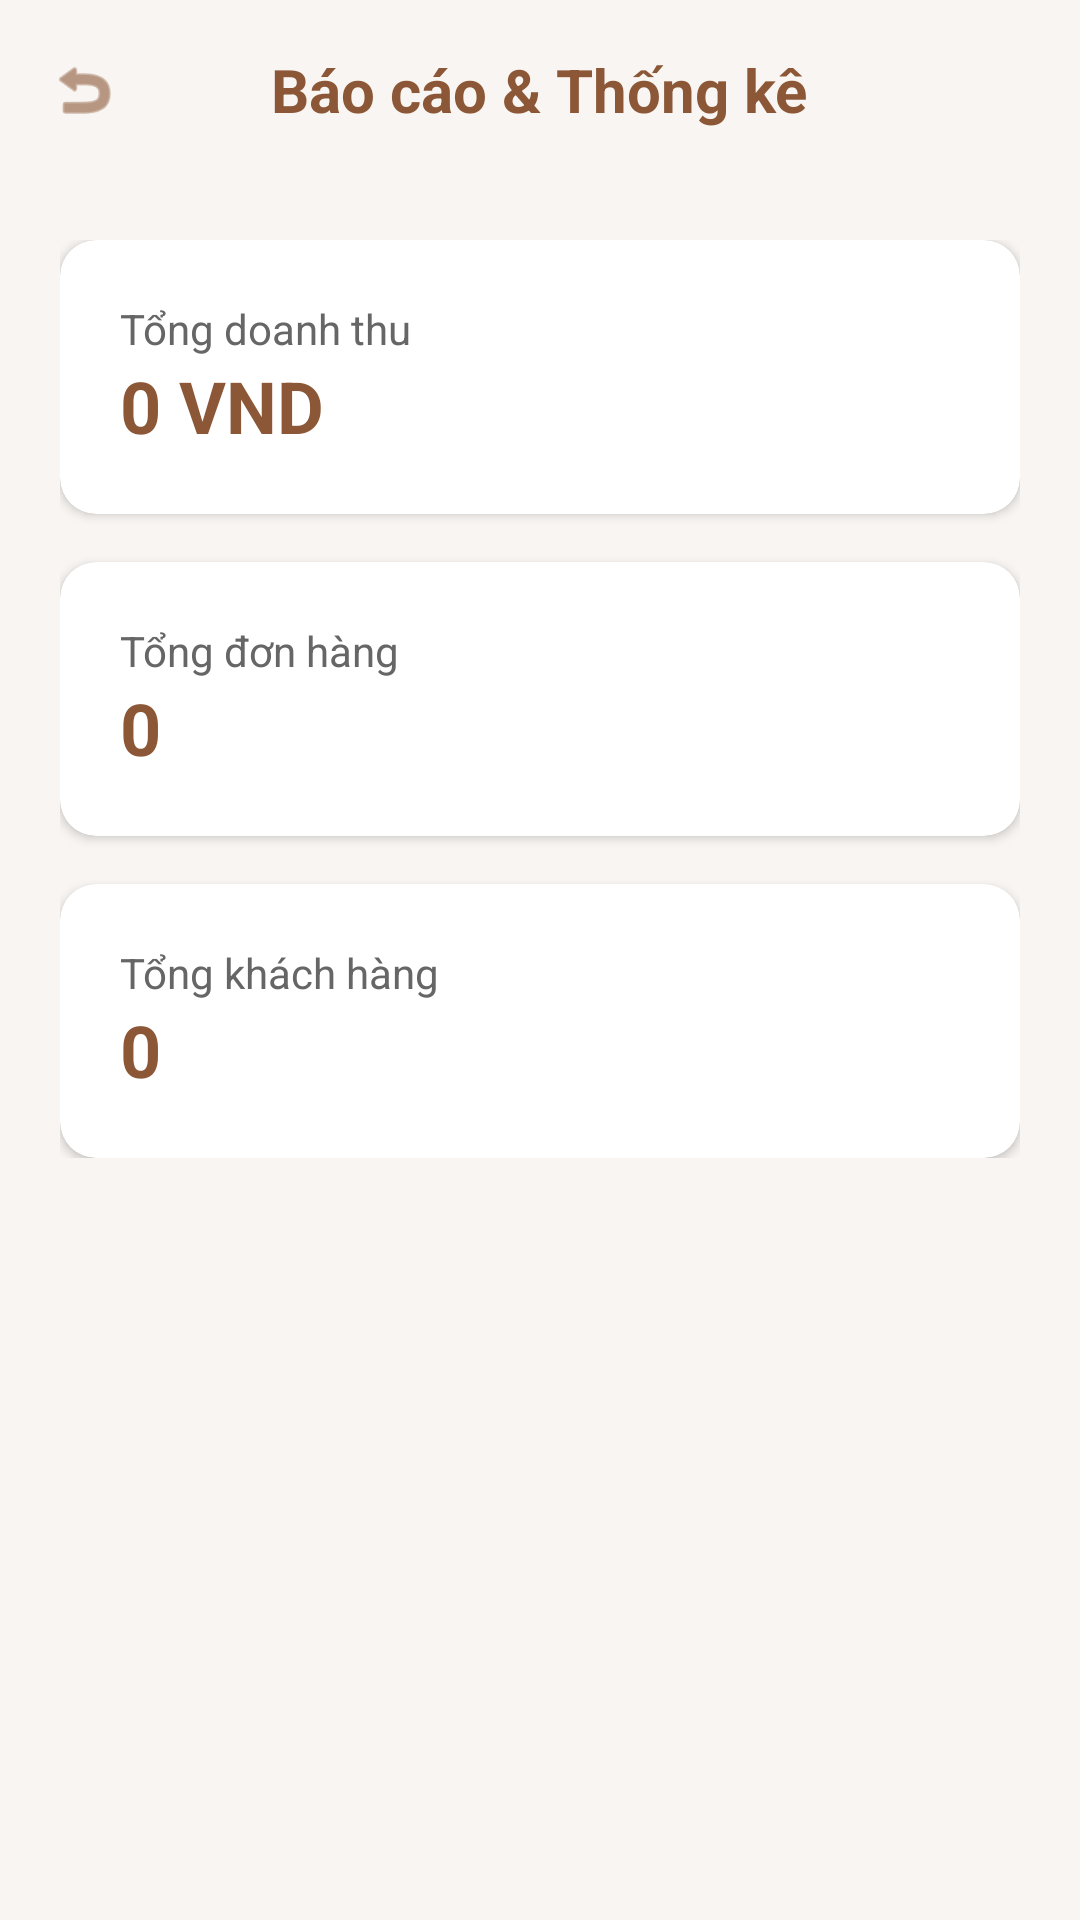

Named icons in this screenshot (1080px x 1920px) and their centers, point (x, y):
revert: point (85, 90)
